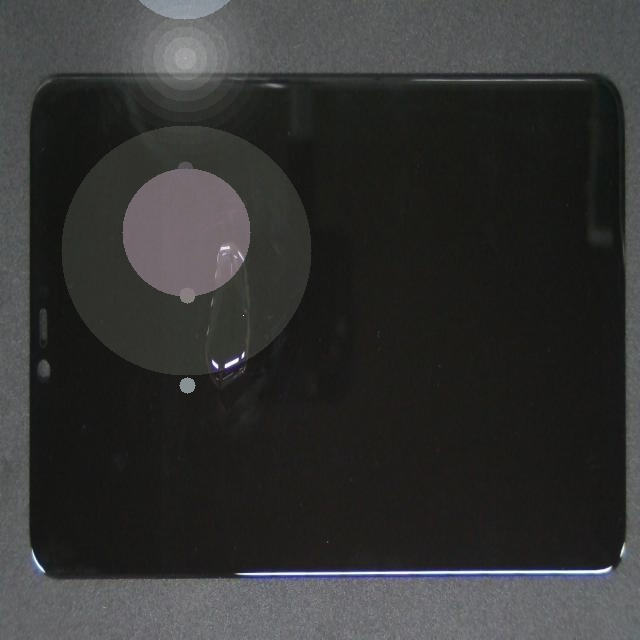oil: (123, 69, 321, 409)
